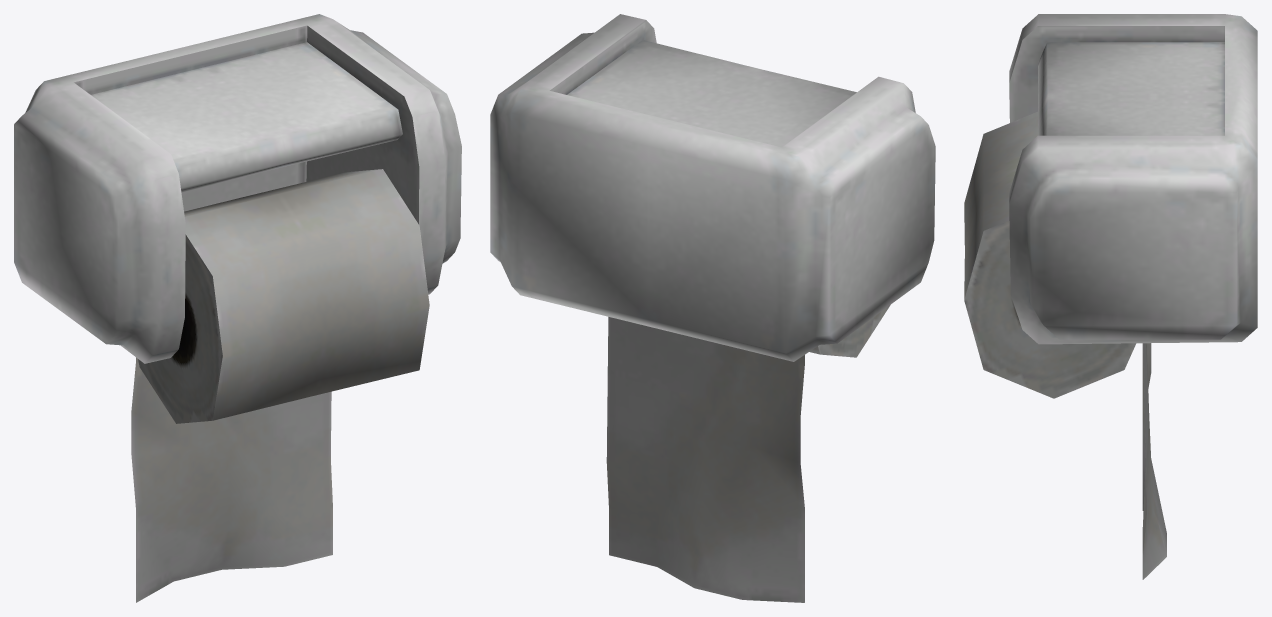
The model's file is paper_holder.dae.
3 renders of one model, left to right at view 1: azimuth 30°, elevation 25°; view 2: azimuth 150°, elevation 25°; view 3: azimuth 270°, elevation 25°, orthographic. The views are drawn at different scales.
Parts seen in each view (by area): view 1: polySurface18; view 2: polySurface18; view 3: polySurface18.
Boxes of the visible parts, bbox=[...] form: polySurface18: bbox=[14, 14, 461, 602]; polySurface18: bbox=[490, 14, 935, 602]; polySurface18: bbox=[964, 14, 1257, 579].
Size of the model in its own units: 0.1991 by 0.2756 by 0.1543.
